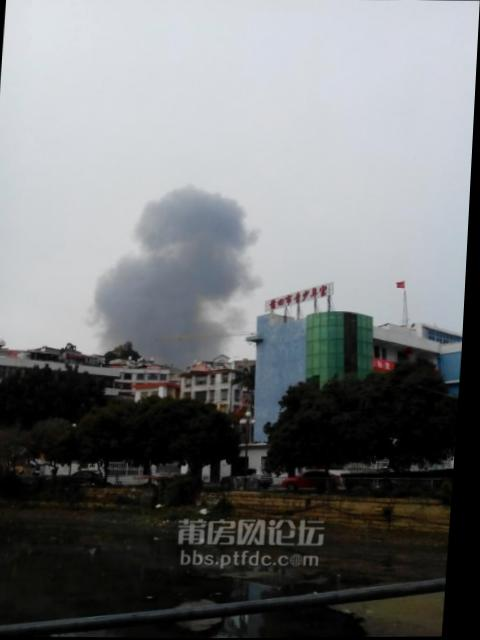smoke: (134, 185, 247, 260), (96, 259, 225, 317), (101, 312, 224, 356)
